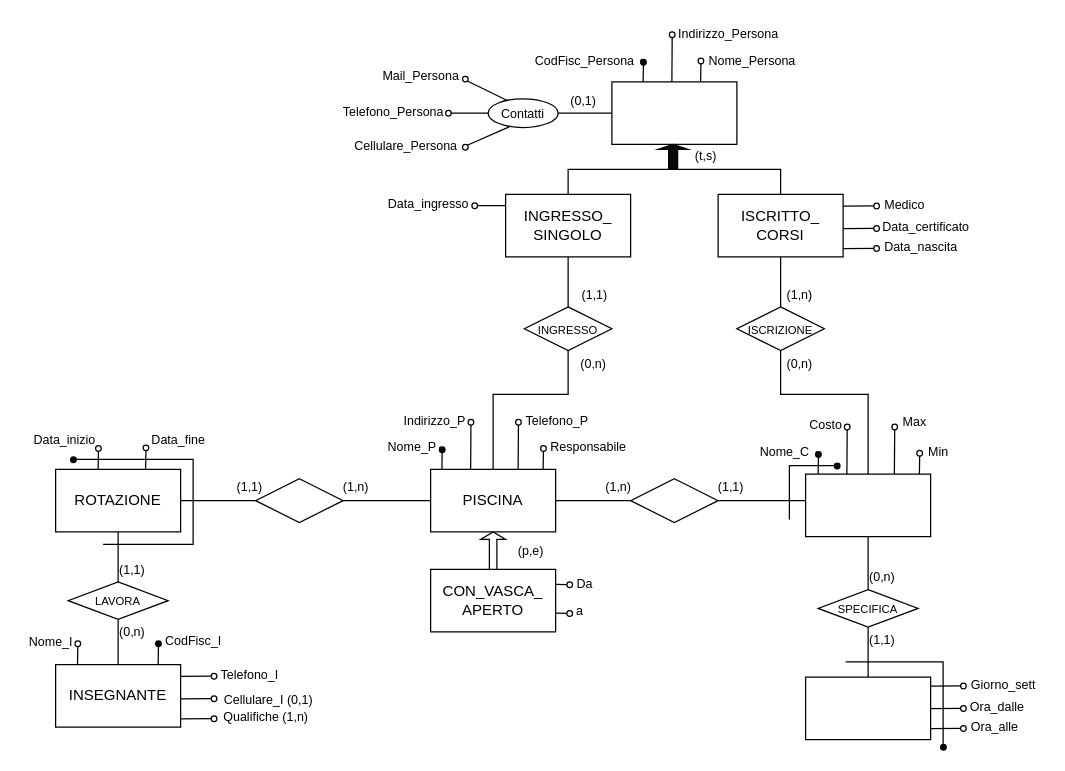
Some shapes in this 1065 by 771 pixel diagram are drawn without their labels. Here are the shapes that lost their labels. From the top down, the centre of each, then its label:
pixel 674 112: PERSONA
pixel 298 500: POSSIEDE
pixel 673 500: SVOLGE
pixel 867 505: CORSO
pixel 867 708: LEZIONE
